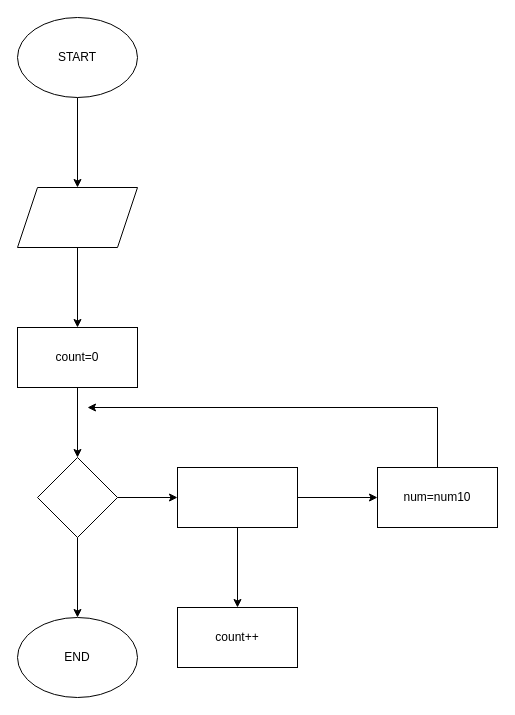
Image size: 515x715. Some labels were removed from this diagram. Here are the shapes that lost their labels. From the top down, the centre of each, then its label:
the point at 77,217: read num
the point at 77,497: num>0
the point at 237,497: temp=num%10
